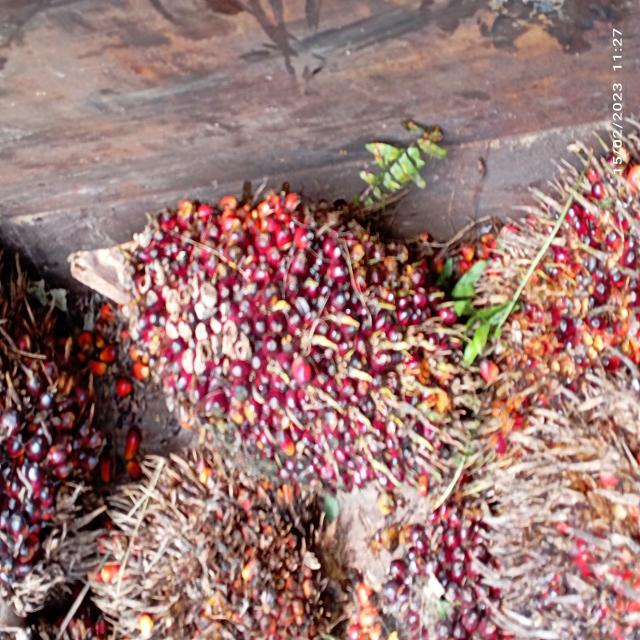fraksi 1: (104, 153, 490, 484)
